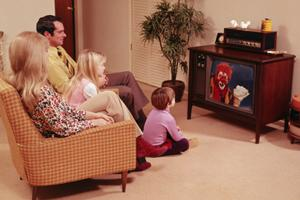person: (8, 33, 170, 171)
